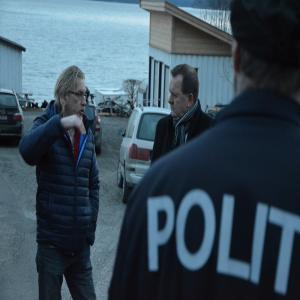Vehicle-registration-plate: (1, 115, 8, 121)
